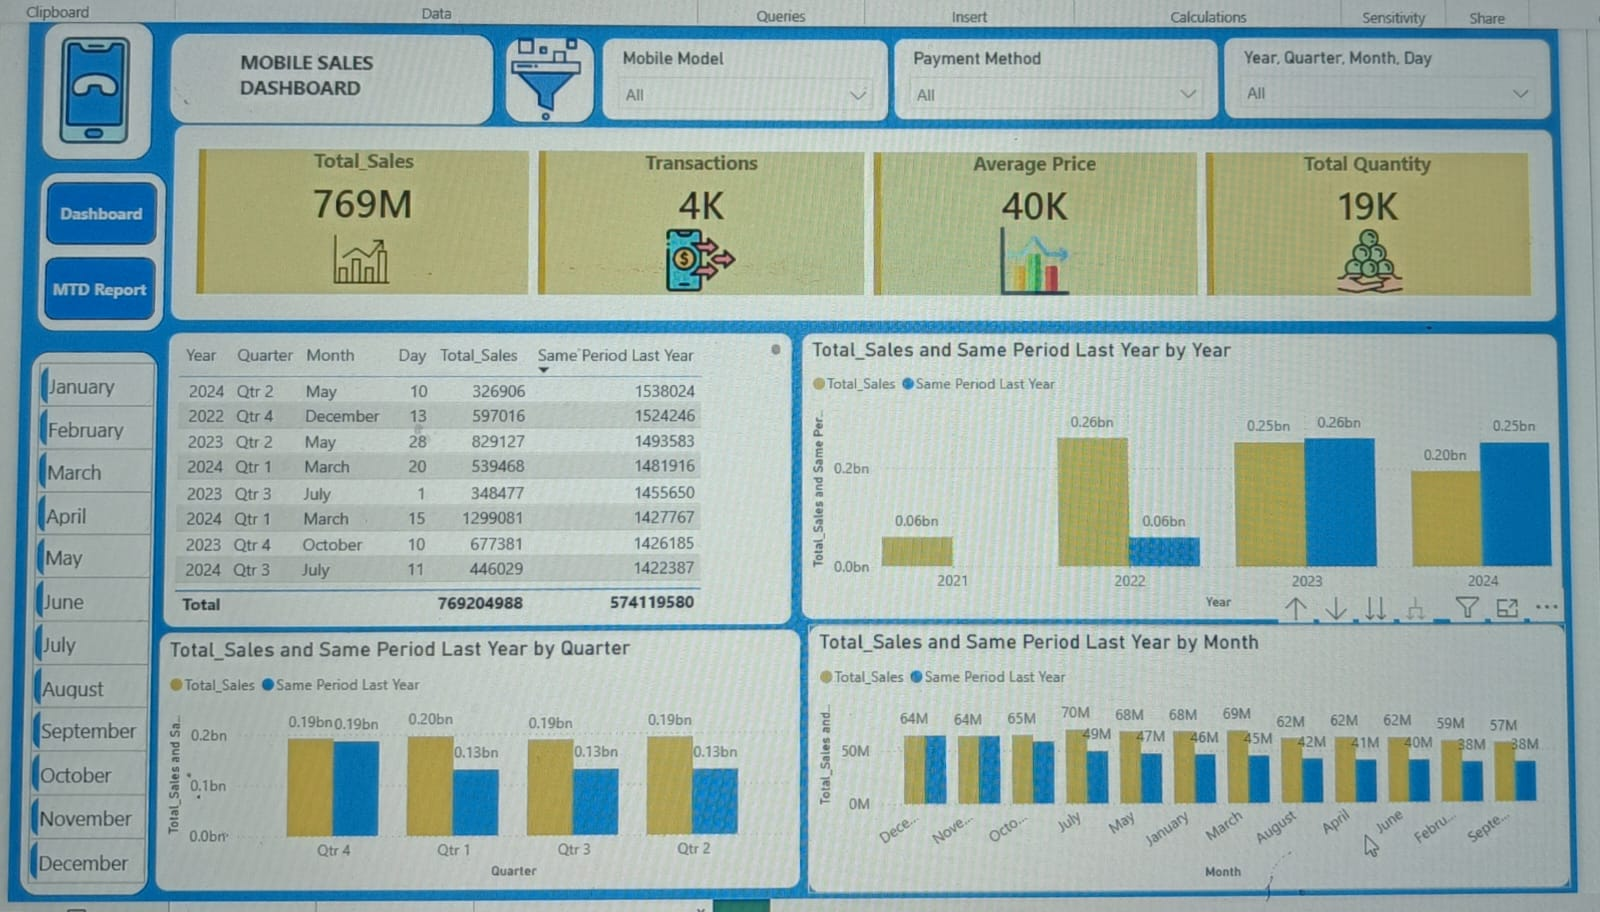

The page's visual inventory and layout, read from the dashboard file:
{"tool":"powerbi","page":{"name":"Same Period Last Year","canvas":[1280,720],"ordinal":2},"visuals":[{"type":"shape","box":[12.1,0,91.7,115.8],"z":0},{"type":"image","box":[0,7.2,111,101.3],"z":1000},{"type":"shape","box":[12.1,125.5,105,132.7],"z":2000},{"type":"shape","box":[8.4,273.9,105,441.6],"z":3000},{"type":"cardVisual","fields":{"Data":["Custom_Calendar.Total_Sales","Custom_Calendar.Transitions","Custom_Calendar.Averege_Price","Custom_Calendar.Total_Quantity"]},"box":[121.9,85.7,1150.9,162.9],"z":4000},{"type":"advancedSlicerVisual","fields":{"Values":["Sales_Data.Date.Variation.Date Hierarchy.Month"]},"box":[10.9,278.4,105,441.6],"z":5000},{"type":"slicer","fields":{"Values":["Custom_Calendar.Mobile Model"]},"box":[474.1,10.9,240.1,70],"z":6000},{"type":"slicer","fields":{"Values":["Custom_Calendar.Payment Method"]},"box":[717.8,9.7,273.9,70],"z":7000},{"type":"slicer","fields":{"Values":["Sales_Data.Date.Variation.Date Hierarchy.Year","Sales_Data.Date.Variation.Date Hierarchy.Quarter","Sales_Data.Date.Variation.Date Hierarchy.Month","Sales_Data.Date.Variation.Date Hierarchy.Day"]},"box":[995.3,8.4,277.5,70],"z":8000},{"type":"shape","box":[393.3,10.9,74.8,72.4],"z":9000},{"type":"image","box":[387.3,10.9,80.8,71.2],"z":10000},{"type":"shape","box":[117,8.4,267.8,77.2],"z":11000},{"type":"textbox","box":[170.1,16.9,191.8,62.7],"z":12000},{"type":"pageNavigator","box":[18.1,133.9,91.7,114.6],"z":13000},{"type":"tableEx","fields":{"Values":["Sales_Data.Date.Variation.Date Hierarchy.Year","Sales_Data.Date.Variation.Date Hierarchy.Quarter","Sales_Data.Date.Variation.Date Hierarchy.Month","Sales_Data.Date.Variation.Date Hierarchy.Day","Custom_Calendar.Total_Sales","Custom_Calendar.Same Period Last Year"]},"box":[120.6,258.2,512.7,241.3],"z":14000},{"type":"clusteredColumnChart","fields":{"Category":["Sales_Data.Date.Variation.Date Hierarchy.Year","Sales_Data.Date.Variation.Date Hierarchy.Quarter","Sales_Data.Date.Variation.Date Hierarchy.Month","Sales_Data.Date.Variation.Date Hierarchy.Day"],"Y":["Custom_Calendar.Total_Sales","Custom_Calendar.Same Period Last Year"]},"box":[640.6,258.2,632.2,237.7],"z":15000},{"type":"clusteredColumnChart","fields":{"Category":["Sales_Data.Date.Variation.Date Hierarchy.Year","Sales_Data.Date.Variation.Date Hierarchy.Quarter","Sales_Data.Date.Variation.Date Hierarchy.Month","Sales_Data.Date.Variation.Date Hierarchy.Day"],"Y":["Custom_Calendar.Total_Sales","Custom_Calendar.Same Period Last Year"]},"box":[118.2,503.1,522.4,208.7],"z":16000},{"type":"clusteredColumnChart","fields":{"Category":["Sales_Data.Date.Variation.Date Hierarchy.Year","Sales_Data.Date.Variation.Date Hierarchy.Quarter","Sales_Data.Date.Variation.Date Hierarchy.Month","Sales_Data.Date.Variation.Date Hierarchy.Day"],"Y":["Custom_Calendar.Total_Sales","Custom_Calendar.Same Period Last Year"]},"box":[646.7,499.5,627.3,216],"z":17000}]}

Visuals, with their boxes on the page's 1280x720 design canvas (x1, y1, x2, y2). These are canvas units, not pixel positions in the 1600x912 screenshot, which may show the page scaled, cropped or inside an application window:
shape: BBox(12, 0, 104, 116)
image: BBox(0, 7, 111, 108)
shape: BBox(12, 126, 117, 258)
shape: BBox(8, 274, 113, 716)
cardVisual - Custom_Calendar.Total_Sales x Custom_Calendar.Transitions: BBox(122, 86, 1273, 249)
advancedSlicerVisual - Sales_Data.Date.Variation.Date Hierarchy.Month: BBox(11, 278, 116, 720)
slicer - Custom_Calendar.Mobile Model: BBox(474, 11, 714, 81)
slicer - Custom_Calendar.Payment Method: BBox(718, 10, 992, 80)
slicer - Sales_Data.Date.Variation.Date Hierarchy.Year x Sales_Data.Date.Variation.Date Hierarchy.Quarter: BBox(995, 8, 1273, 78)
shape: BBox(393, 11, 468, 83)
image: BBox(387, 11, 468, 82)
shape: BBox(117, 8, 385, 86)
textbox: BBox(170, 17, 362, 80)
pageNavigator: BBox(18, 134, 110, 248)
tableEx - Sales_Data.Date.Variation.Date Hierarchy.Year x Sales_Data.Date.Variation.Date Hierarchy.Quarter: BBox(121, 258, 633, 500)
clusteredColumnChart - Sales_Data.Date.Variation.Date Hierarchy.Year x Sales_Data.Date.Variation.Date Hierarchy.Quarter: BBox(641, 258, 1273, 496)
clusteredColumnChart - Sales_Data.Date.Variation.Date Hierarchy.Year x Sales_Data.Date.Variation.Date Hierarchy.Quarter: BBox(118, 503, 641, 712)
clusteredColumnChart - Sales_Data.Date.Variation.Date Hierarchy.Year x Sales_Data.Date.Variation.Date Hierarchy.Quarter: BBox(647, 500, 1274, 716)
